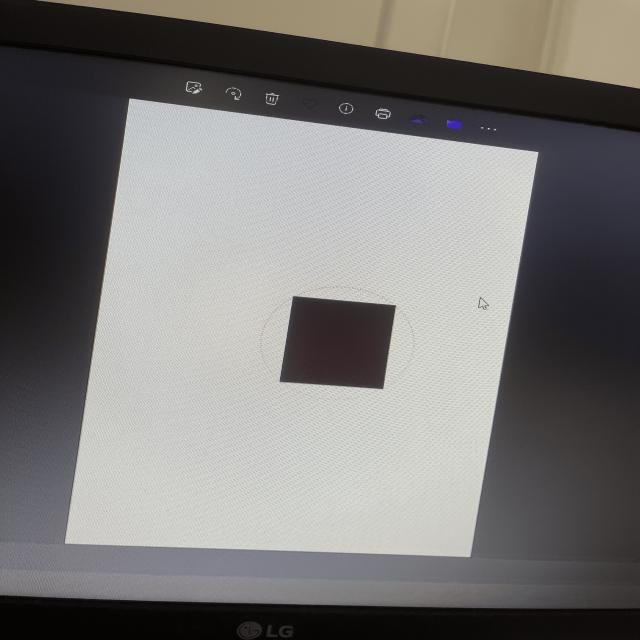QuadradoVinho: (269, 283, 413, 400)
